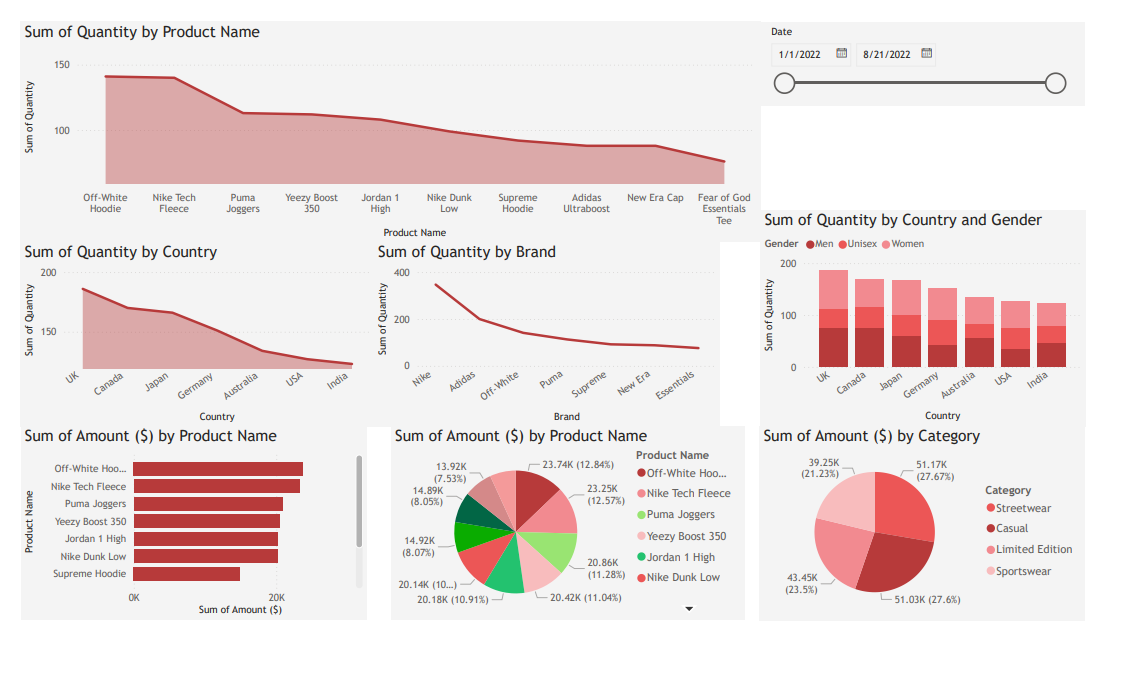

The page's visual inventory and layout, read from the dashboard file:
{"tool":"powerbi","page":{"name":"Dashboard","canvas":[1280,720],"ordinal":0},"visuals":[{"type":"areaChart","fields":{"Category":["sneakers_streetwear_sales_data.Country"],"Y":["Sum(sneakers_streetwear_sales_data.Quantity)"]},"box":[0,265.4,425,221.7],"z":1},{"type":"columnChart","fields":{"Category":["sneakers_streetwear_sales_data.Country"],"Series":["sneakers_streetwear_sales_data.Gender"],"Y":["Sum(sneakers_streetwear_sales_data.Quantity)"]},"box":[889.9,100.8,390.2,259.2],"z":2},{"type":"slicer","fields":{"Values":["sneakers_streetwear_sales_data.Date"]},"box":[890.3,0,389.7,100.8],"z":3},{"type":"stackedAreaChart","fields":{"Category":["sneakers_streetwear_sales_data.Product Name"],"Y":["Sum(sneakers_streetwear_sales_data.Quantity)"]},"box":[0,0,890.3,265.4],"z":4},{"type":"lineChart","fields":{"Category":["sneakers_streetwear_sales_data.Brand"],"Y":["Sum(sneakers_streetwear_sales_data.Quantity)"]},"box":[424.8,265,416.2,221.8],"z":5},{"type":"pieChart","fields":{"Category":["sneakers_streetwear_sales_data.Category Hierarchy.Category","sneakers_streetwear_sales_data.Country Hierarchy.Country"],"Y":["Sum(sneakers_streetwear_sales_data.Quantity)"]},"box":[445,486.7,424.8,233.3],"z":6},{"type":"clusteredBarChart","fields":{"Category":["sneakers_streetwear_sales_data.Product Name"],"Y":["Sum(sneakers_streetwear_sales_data.Amount ($))"]},"box":[0,486.7,416.2,233.3],"z":7}]}

Visuals, with their boxes on the page's 1280x720 design canvas (x1, y1, x2, y2). These are canvas units, not pixel positions in the 1127x675 screenshot, which may show the page scaled, cropped or inside an application window:
areaChart - sneakers_streetwear_sales_data.Country x Sum(sneakers_streetwear_sales_data.Quantity): (0,265,425,487)
columnChart - sneakers_streetwear_sales_data.Country x sneakers_streetwear_sales_data.Gender: (890,101,1280,360)
slicer - sneakers_streetwear_sales_data.Date: (890,0,1280,101)
stackedAreaChart - sneakers_streetwear_sales_data.Product Name x Sum(sneakers_streetwear_sales_data.Quantity): (0,0,890,265)
lineChart - sneakers_streetwear_sales_data.Brand x Sum(sneakers_streetwear_sales_data.Quantity): (425,265,841,487)
pieChart - sneakers_streetwear_sales_data.Category Hierarchy.Category x sneakers_streetwear_sales_data.Country Hierarchy.Country: (445,487,870,720)
clusteredBarChart - sneakers_streetwear_sales_data.Product Name x Sum(sneakers_streetwear_sales_data.Amount ($)): (0,487,416,720)
